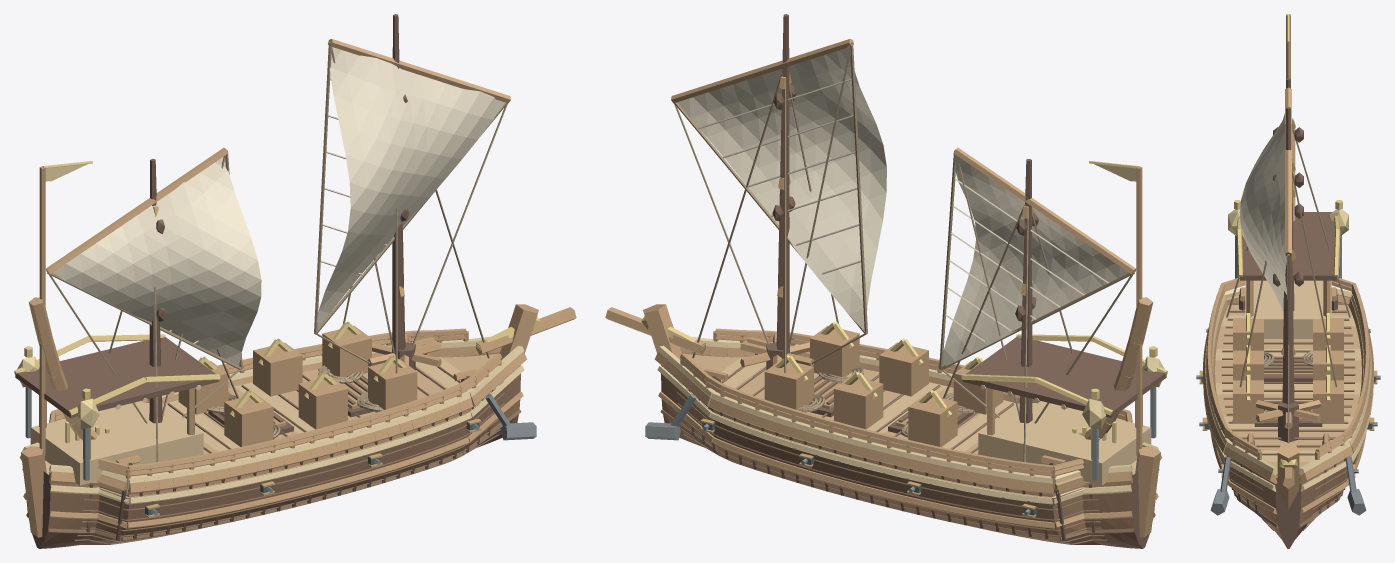
Rendered from zanzibar_dhow-v5-mobile.glb.
3 renders of one model, left to right at view 1: azimuth 30°, elevation 25°; view 2: azimuth 150°, elevation 25°; view 3: azimuth 270°, elevation 25°, orthographic. The views are drawn at different scales.
Parts seen in each view (by area): view 1: zanzibar_dhow_sails_sail, zanzibar_dhow_hull_wood, zanzibar_dhow_ornament_wood, zanzibar_dhow_hull_hull, zanzibar_dhow_hull_pale, zanzibar_dhow_deck_darkwood, zanzibar_dhow_deck_decklight, zanzibar_dhow_railings_wood, zanzibar_dhow_hull_seam, zanzibar_dhow_rigging_rope, zanzibar_dhow_hull_hull2, zanzibar_dhow_rigging_wood (+13 smaller); view 2: zanzibar_dhow_sails_sail, zanzibar_dhow_hull_wood, zanzibar_dhow_ornament_wood, zanzibar_dhow_hull_hull, zanzibar_dhow_hull_pale, zanzibar_dhow_deck_darkwood, zanzibar_dhow_deck_decklight, zanzibar_dhow_railings_wood, zanzibar_dhow_hull_seam, zanzibar_dhow_rigging_rope, zanzibar_dhow_masts_darkwood, zanzibar_dhow_hull_hull2 (+15 smaller); view 3: zanzibar_dhow_ornament_wood, zanzibar_dhow_sails_sail, zanzibar_dhow_hull_wood, zanzibar_dhow_hull_deck, zanzibar_dhow_railings_wood, zanzibar_dhow_deck_darkwood, zanzibar_dhow_hull_seam, zanzibar_dhow_deck_decklight, zanzibar_dhow_hull_pale, zanzibar_dhow_hull_decklight, zanzibar_dhow_masts_darkwood, zanzibar_dhow_hull_hull (+18 smaller).
Part boxes in pixels (box(x1,y1,x2,y2)): zanzibar_dhow_sails_sail: box(53, 47, 504, 365); zanzibar_dhow_hull_wood: box(19, 304, 576, 537); zanzibar_dhow_ornament_wood: box(28, 297, 417, 446); zanzibar_dhow_hull_hull: box(44, 373, 520, 544); zanzibar_dhow_hull_pale: box(22, 336, 524, 504); zanzibar_dhow_deck_darkwood: box(15, 337, 219, 417); zanzibar_dhow_deck_decklight: box(30, 401, 203, 485); zanzibar_dhow_railings_wood: box(49, 328, 501, 488); zanzibar_dhow_hull_seam: box(26, 366, 521, 544); zanzibar_dhow_rigging_rope: box(47, 42, 507, 423); zanzibar_dhow_hull_hull2: box(48, 353, 520, 538); zanzibar_dhow_rigging_wood: box(46, 39, 510, 274); zanzibar_dhow_sails_sail: box(677, 44, 1128, 366); zanzibar_dhow_hull_wood: box(605, 304, 1162, 537); zanzibar_dhow_ornament_wood: box(764, 297, 1153, 446); zanzibar_dhow_hull_hull: box(661, 373, 1137, 544); zanzibar_dhow_hull_pale: box(657, 336, 1159, 504); zanzibar_dhow_deck_darkwood: box(962, 337, 1166, 417); zanzibar_dhow_deck_decklight: box(978, 401, 1151, 485); zanzibar_dhow_railings_wood: box(680, 328, 1132, 488); zanzibar_dhow_hull_seam: box(660, 366, 1155, 544); zanzibar_dhow_rigging_rope: box(674, 42, 1134, 423); zanzibar_dhow_masts_darkwood: box(772, 14, 1038, 423); zanzibar_dhow_hull_hull2: box(661, 353, 1133, 538); zanzibar_dhow_ornament_wood: box(1233, 128, 1343, 423); zanzibar_dhow_sails_sail: box(1239, 113, 1286, 311); zanzibar_dhow_hull_wood: box(1202, 295, 1374, 514); zanzibar_dhow_hull_deck: box(1215, 304, 1361, 467); zanzibar_dhow_railings_wood: box(1206, 278, 1370, 459); zanzibar_dhow_deck_darkwood: box(1240, 212, 1336, 280); zanzibar_dhow_hull_seam: box(1215, 302, 1361, 530); zanzibar_dhow_deck_decklight: box(1245, 280, 1331, 338); zanzibar_dhow_hull_pale: box(1203, 288, 1373, 491); zanzibar_dhow_hull_decklight: box(1215, 315, 1361, 461); zanzibar_dhow_masts_darkwood: box(1273, 78, 1303, 403); zanzibar_dhow_hull_hull: box(1218, 452, 1358, 539).
Bounding box in the file's own units: 48.79 × 38.57 × 16.18.
